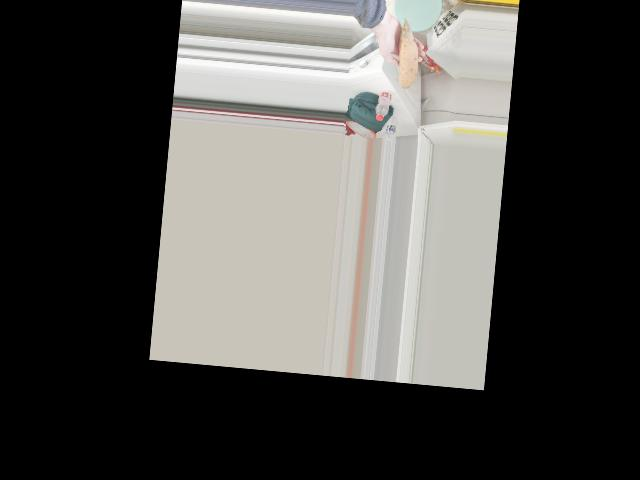sweet_potato: (394, 21, 417, 83)
